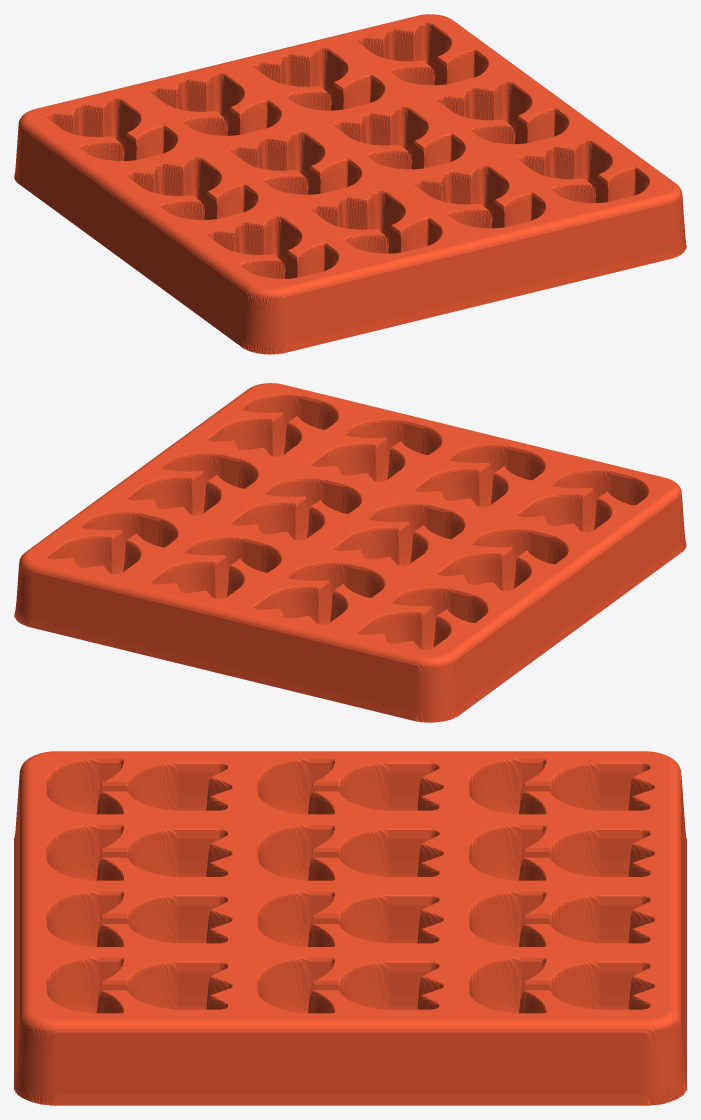
The model's file is mold.glb.
3 views of the same model, one above another, from view 1: azimuth 30°, elevation 25°; view 2: azimuth 150°, elevation 25°; view 3: azimuth 270°, elevation 25° (orthographic). The views are drawn at different scales.
Parts seen in each view (by area): view 1: geometry_0; view 2: geometry_0; view 3: geometry_0.
Part boxes in pixels (x1,y1,x2,y2): geometry_0: [14, 14, 686, 354]; geometry_0: [14, 383, 686, 722]; geometry_0: [14, 751, 686, 1105].
Size of the model in its own units: 0.1397 by 0.0182 by 0.141.
